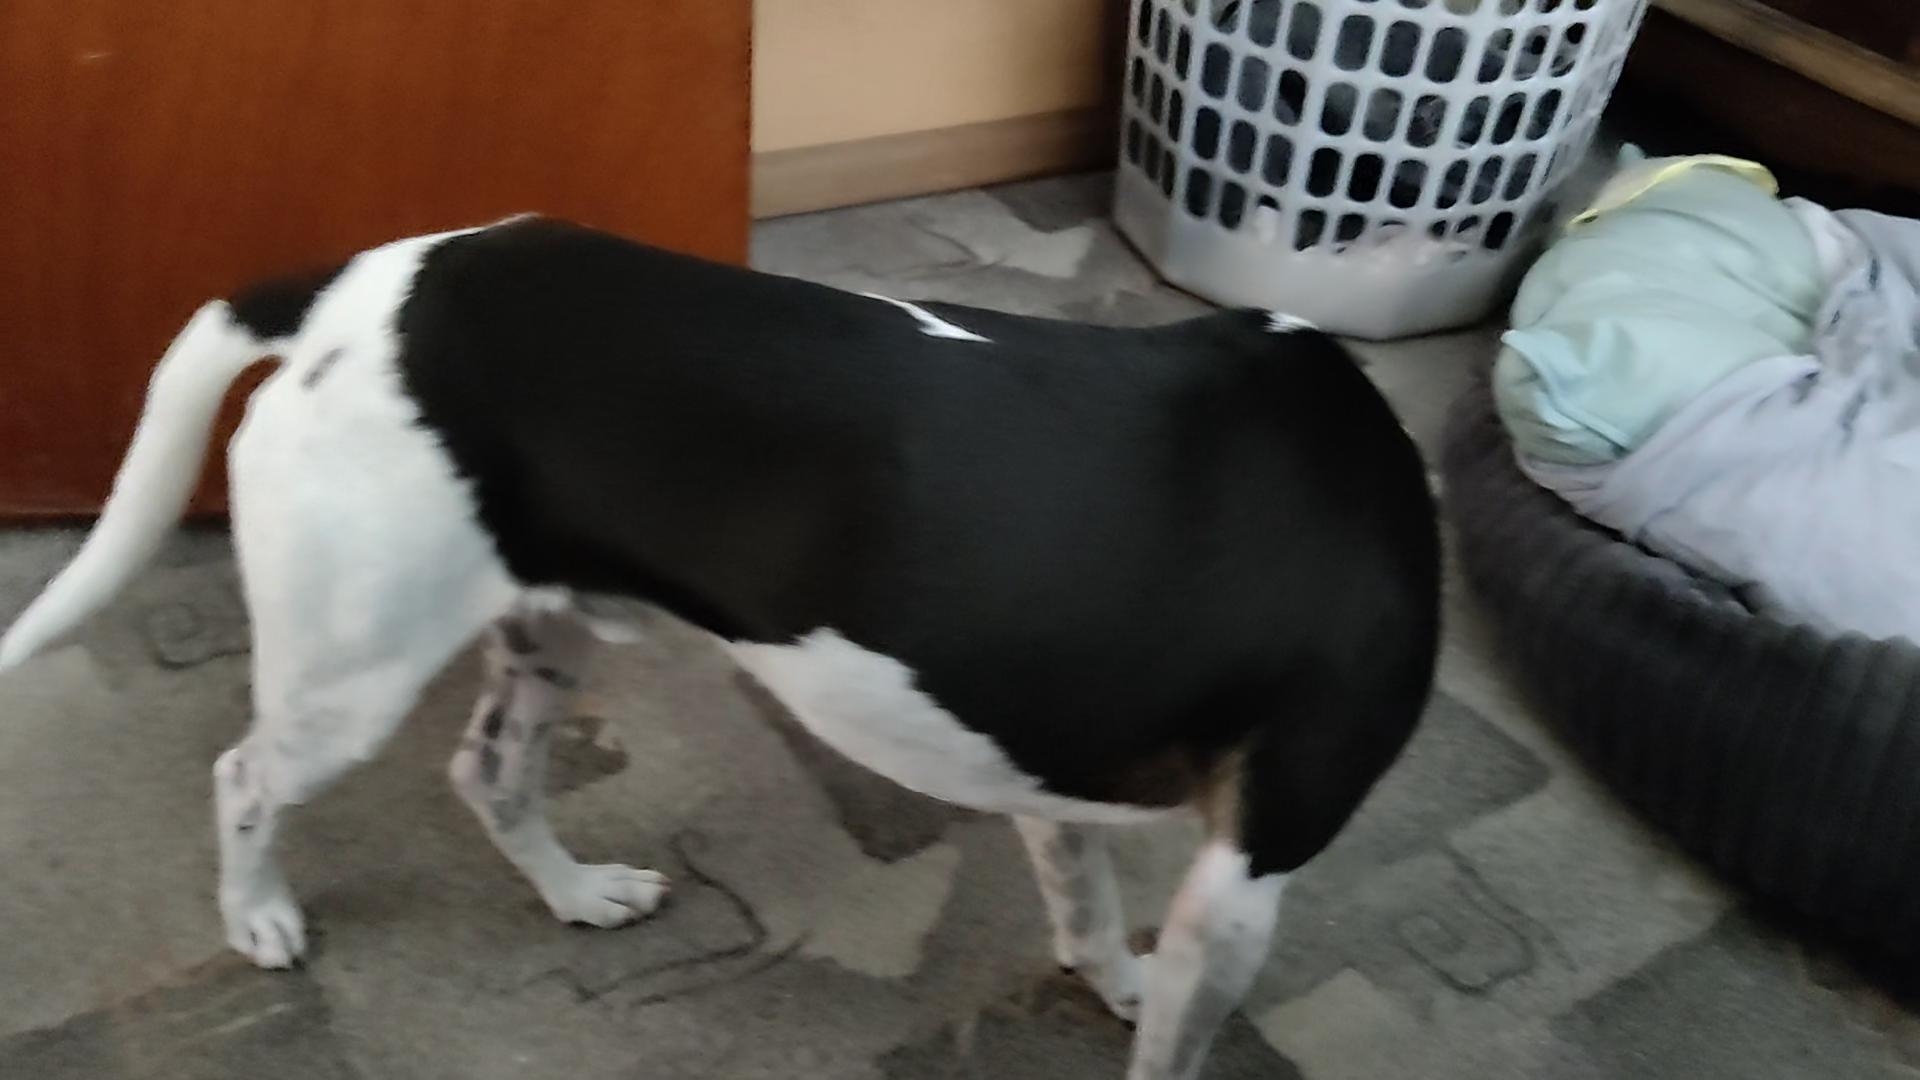Dog: (0, 207, 1451, 1079)
